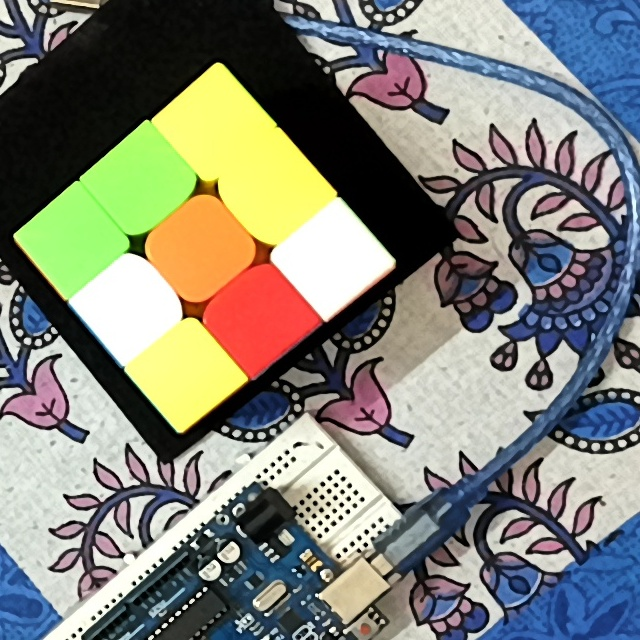tile: (241, 162, 306, 224), (230, 287, 290, 349), (108, 153, 172, 211), (182, 93, 242, 154), (300, 230, 362, 288), (39, 214, 105, 268), (158, 342, 215, 404), (171, 220, 228, 280), (98, 277, 156, 335)
